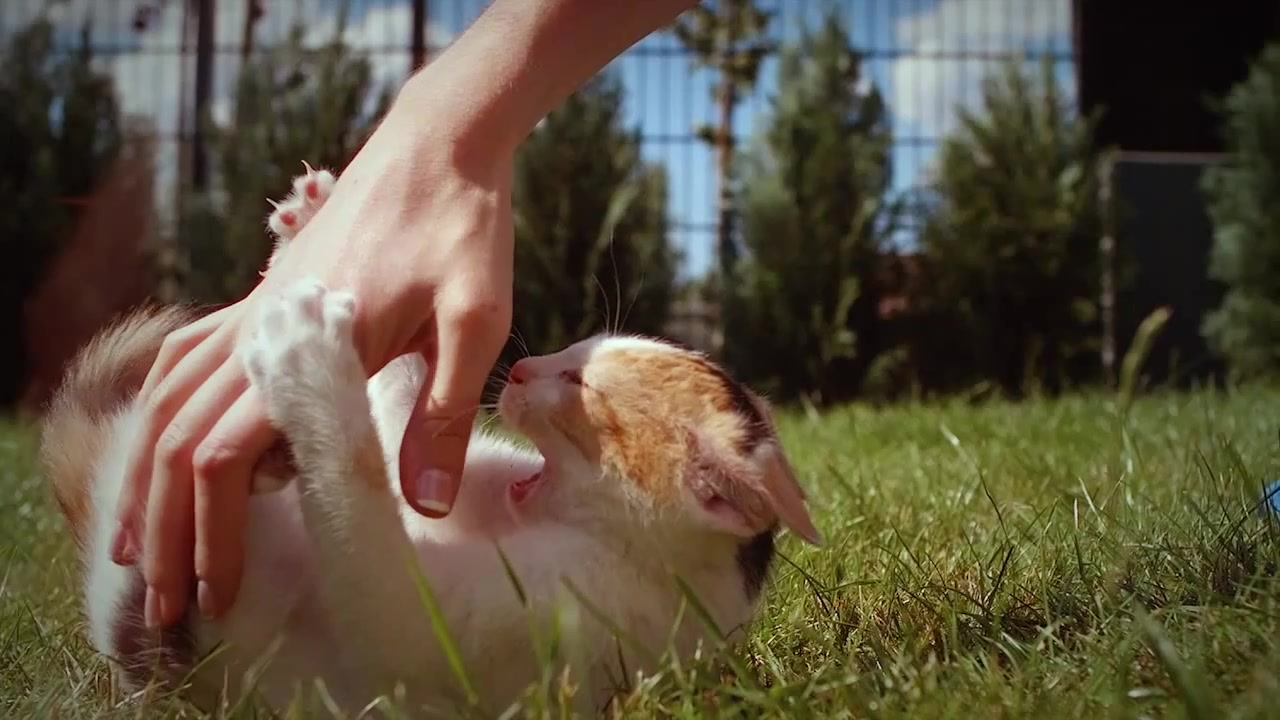cat: (45, 159, 819, 719)
